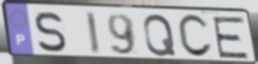9: (107, 13, 138, 56)
C: (176, 13, 215, 60)
E: (211, 16, 251, 60)
I: (84, 11, 102, 56)
Q: (142, 13, 178, 58)
S: (34, 11, 68, 54)
